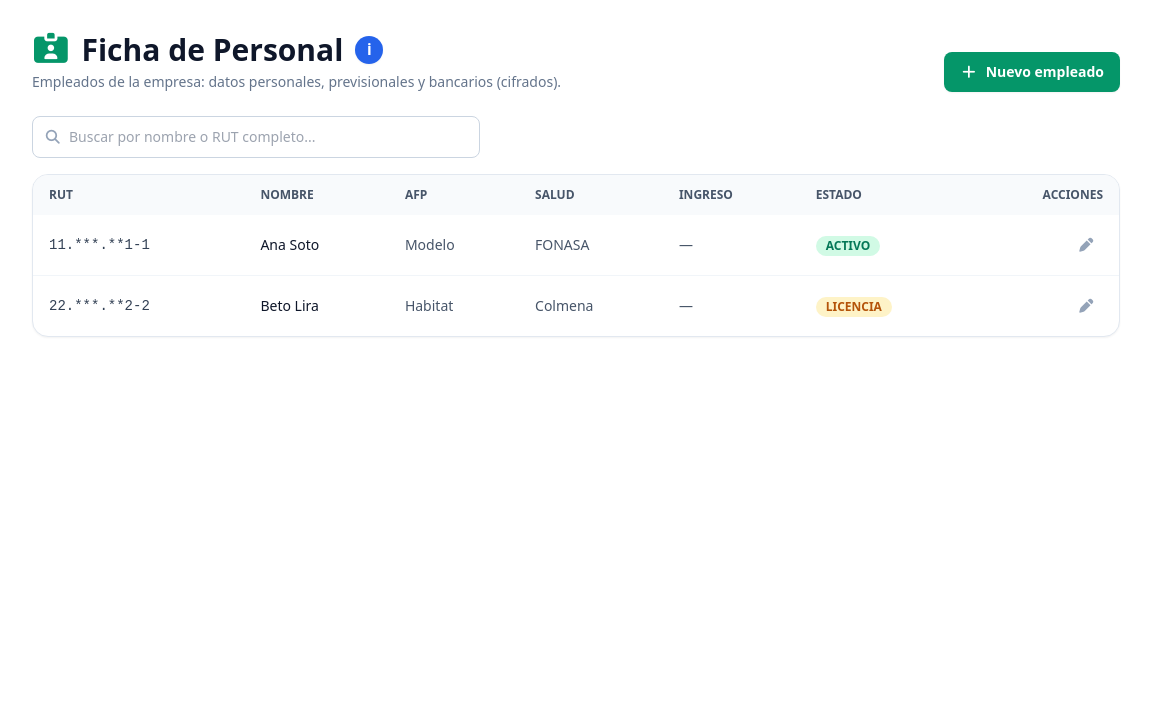
EmpleadosRrhh › abre el modal de alta al pulsar "Nuevo empleado"
expect the text "Ana Soto" is shown: met, box [244,215,389,276]
Step 1. Click the button "Nuevo empleado" → (1032,72), box [944,52,1120,92]
(page scrolled)
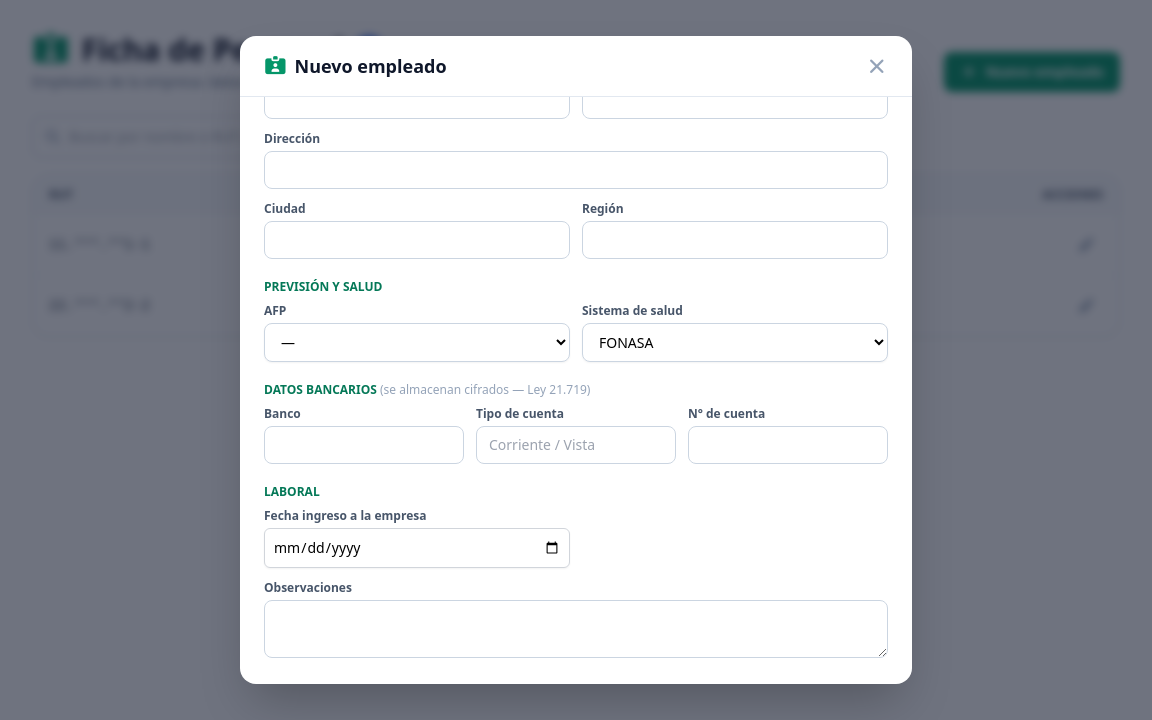
expect the text "Datos bancarios" is shown: met, box [264,381,380,398]
